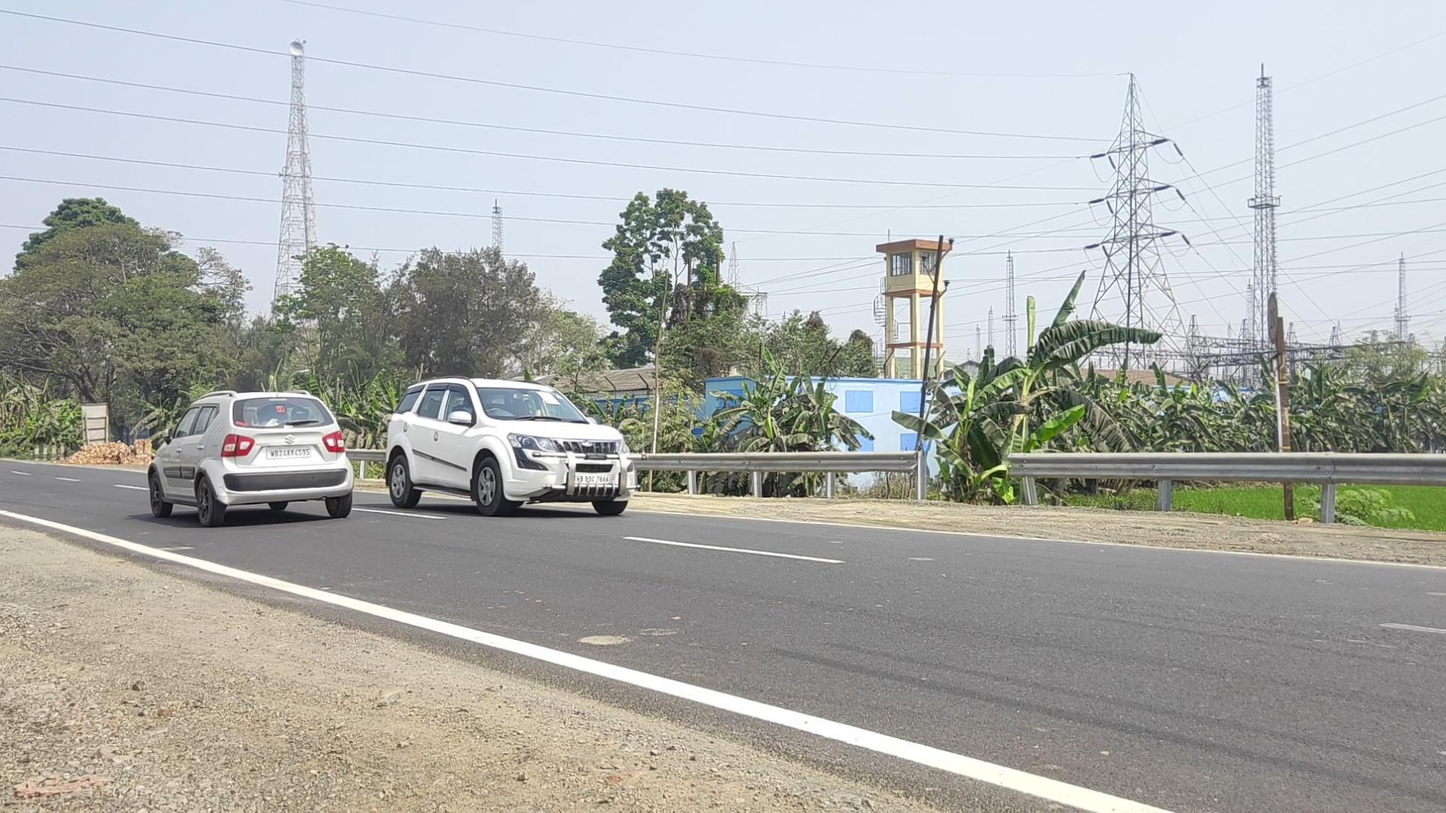car: (386, 376, 647, 518), (148, 390, 354, 528)
